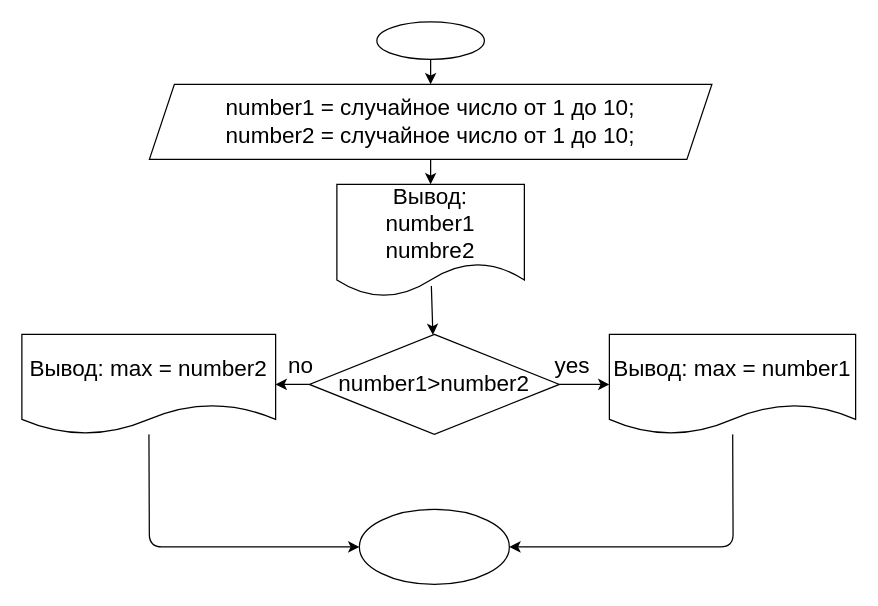
The diagram is 878 pixels wide and 606 high, and some of its shapes have lost their labels. The shapes that lost their labels are listed below. From the top down, each one's centre as x and y in pixels, then its label:
(430,40): Start
(433,546): end
